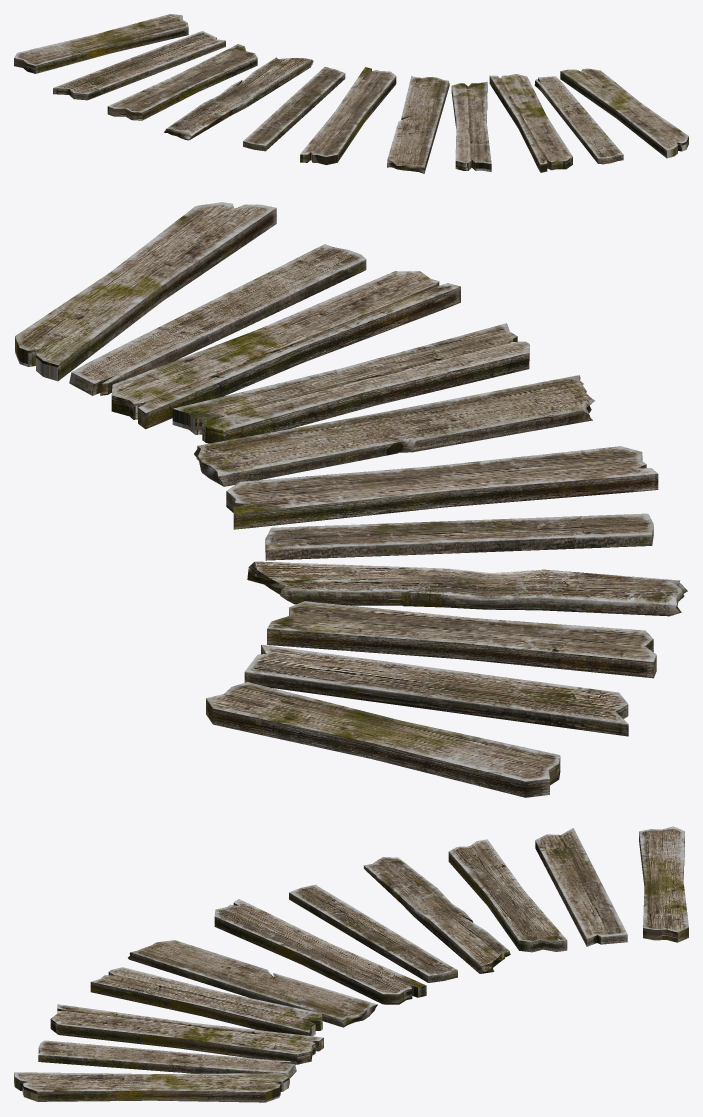
Rendered from WoodRoadTurn.fbx.
3 views of the same model, one above another, from view 1: azimuth 30°, elevation 25°; view 2: azimuth 150°, elevation 25°; view 3: azimuth 270°, elevation 25° (orthographic). The views are drawn at different scales.
Visible parts, largest first — view 1: prim1, prim0; view 2: prim1, prim0; view 3: prim1, prim0.
Part boxes in pixels (x1,y1,x2,y2): prim1: (300, 67, 688, 173); prim0: (14, 14, 345, 151); prim1: (15, 202, 658, 529); prim0: (206, 513, 687, 797); prim1: (14, 899, 426, 1102); prim0: (289, 826, 688, 982).
Bounding box in the file's own units: 427 × 8.63 × 457.
